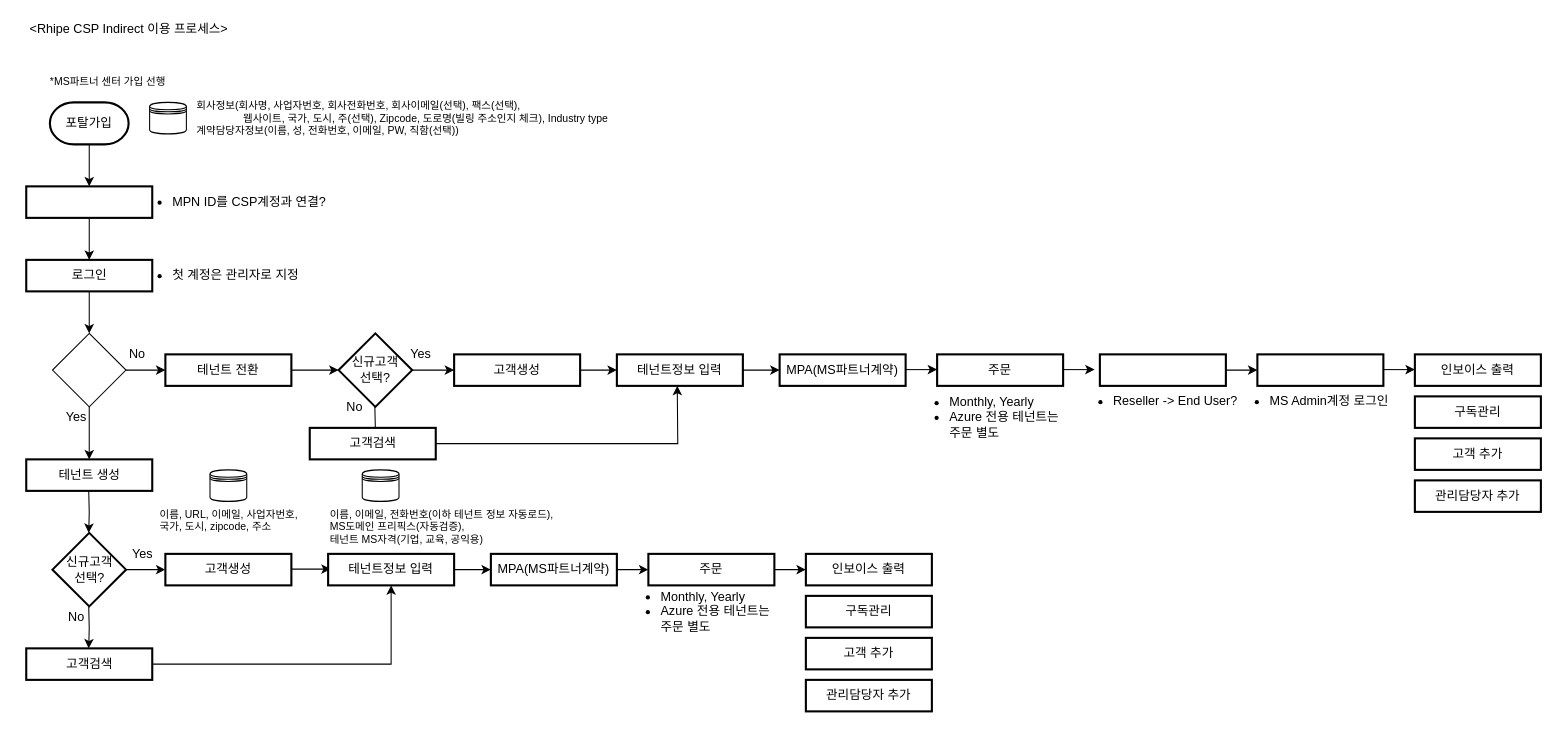
Some shapes in this 1559 by 730 pixel diagram are drawn without their labels. The centre of each missing label's shape, as x and y in pixels:
"MS파트너 링크 전송" belongs at (x=1162, y=369).
"계정승인" belongs at (x=89, y=201).
"테넌트 신규생성?" belongs at (x=88, y=369).
"테넌트전환 동의" belongs at (x=1320, y=369).
